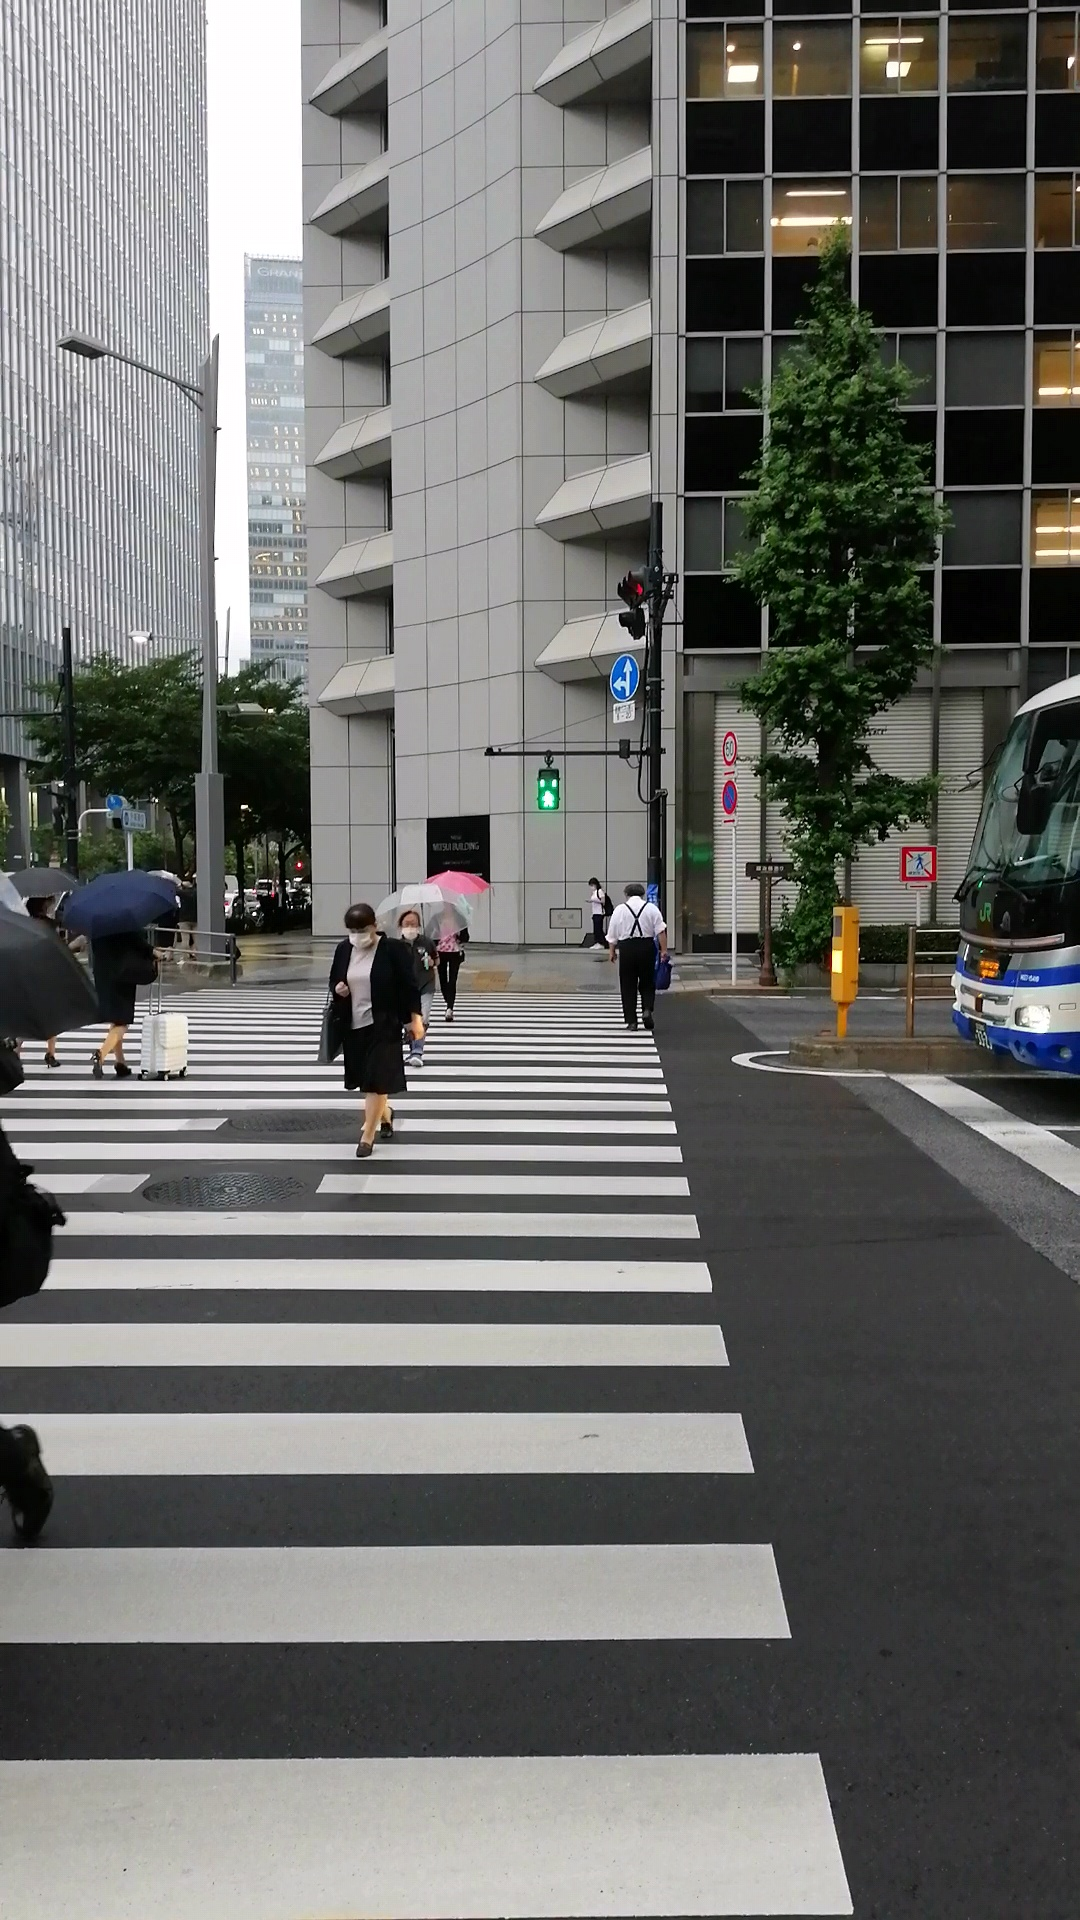green: (535, 767, 558, 811)
